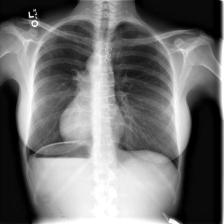normal: (23, 17, 183, 172)
